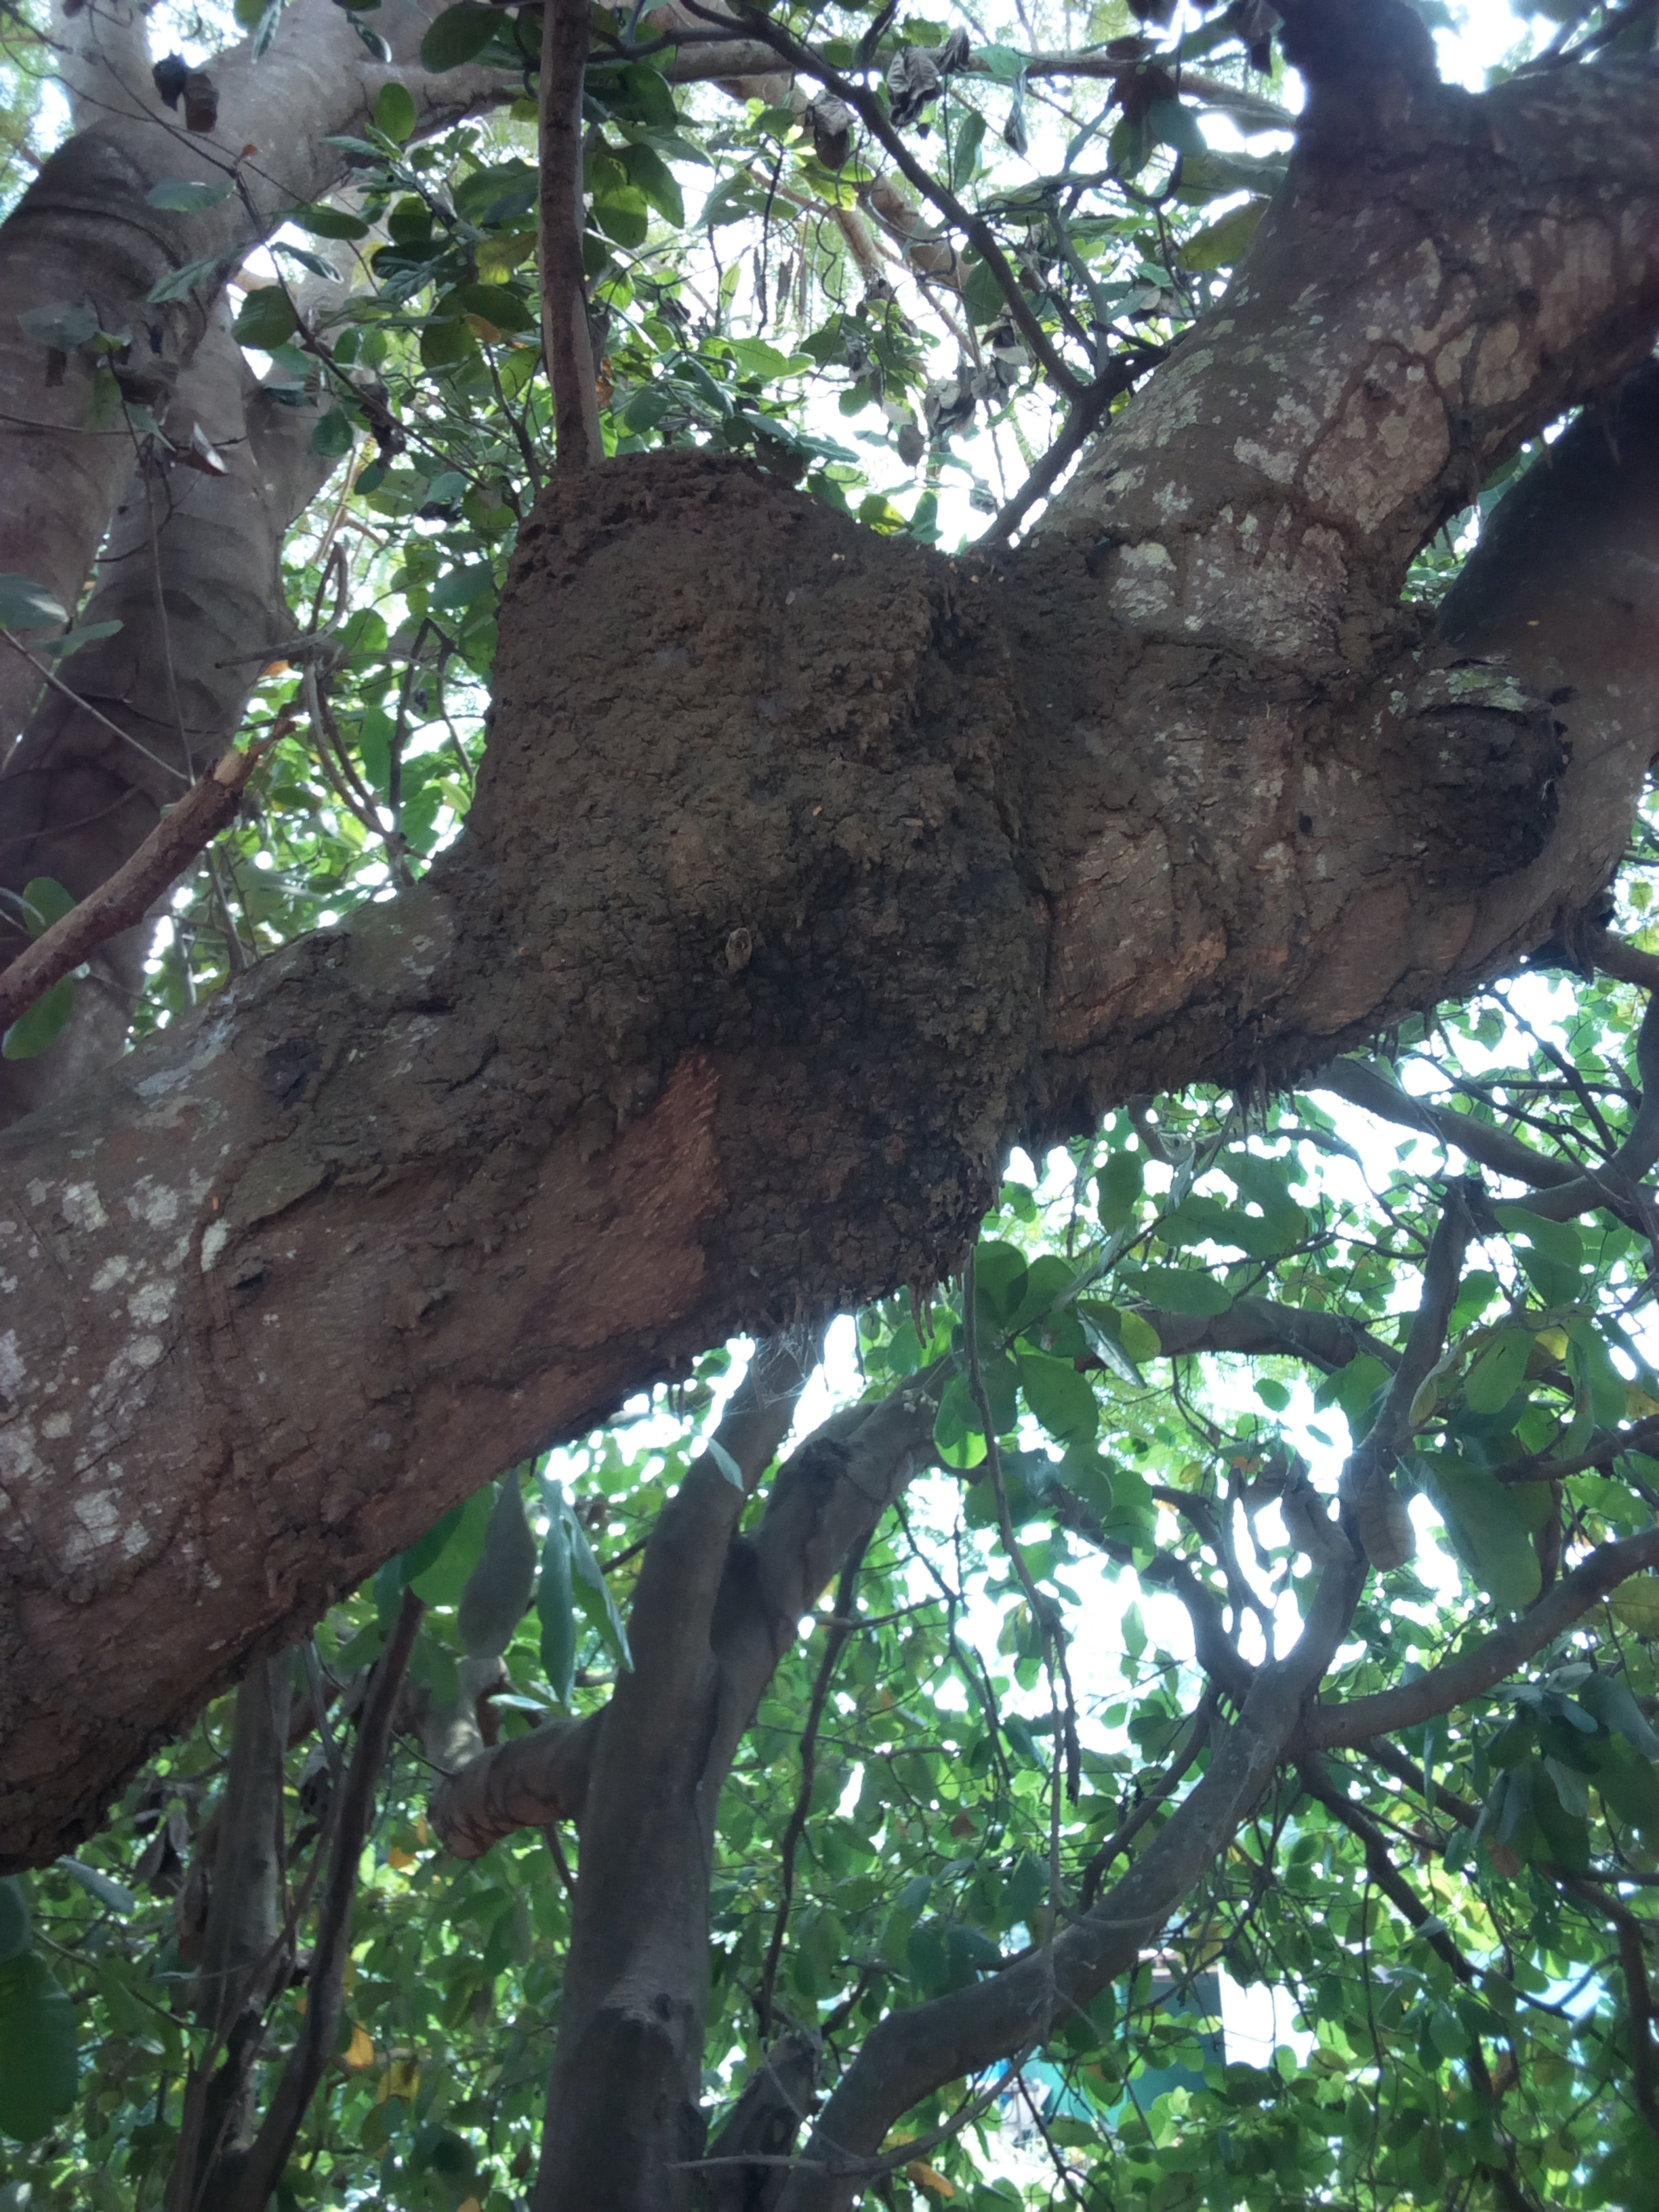Termites: (514, 453, 1127, 1268)
